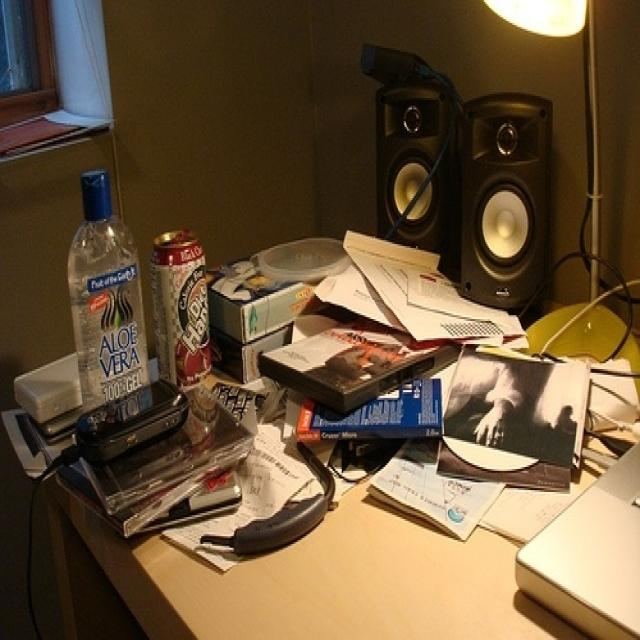Plastics: (365, 56, 561, 300), (76, 160, 145, 400)
can: (154, 218, 228, 391)
